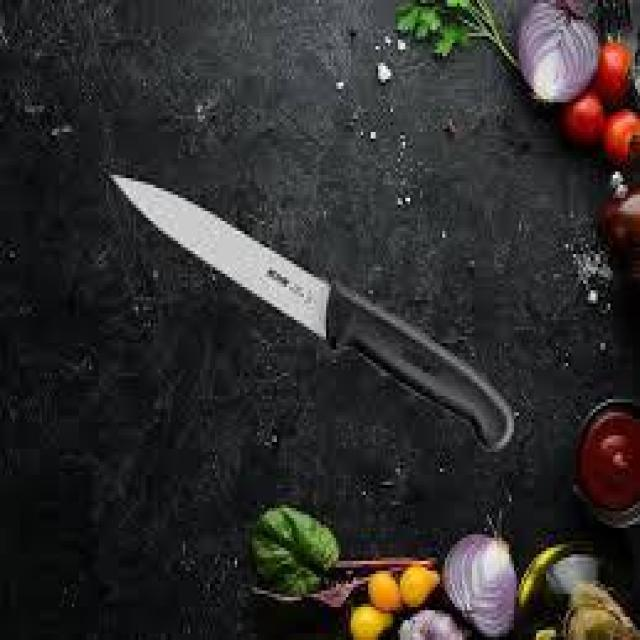Knife: (93, 140, 543, 481)
